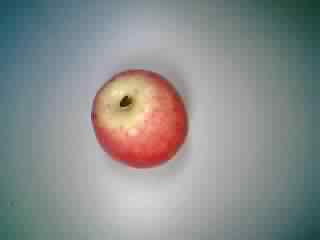apple: (88, 68, 193, 170)
